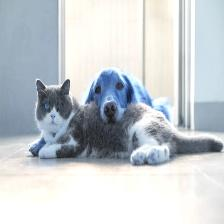kedo: (35, 78, 222, 164)
